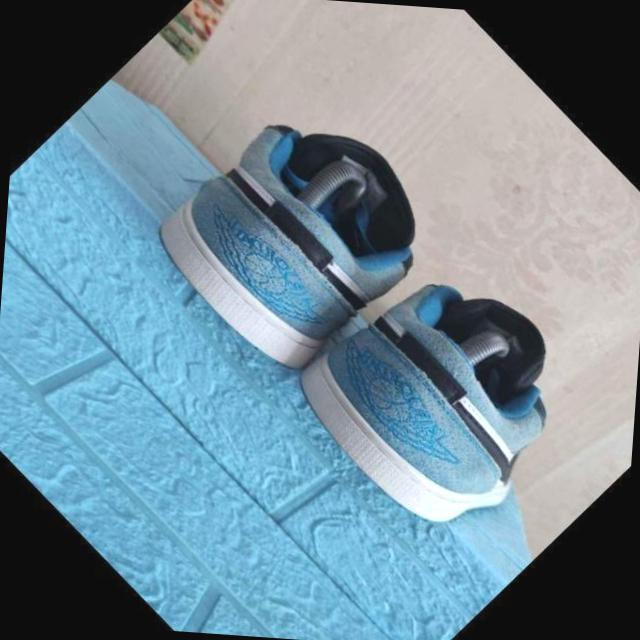nike_fake_jordan: (264, 215, 623, 573), (126, 61, 470, 408)
